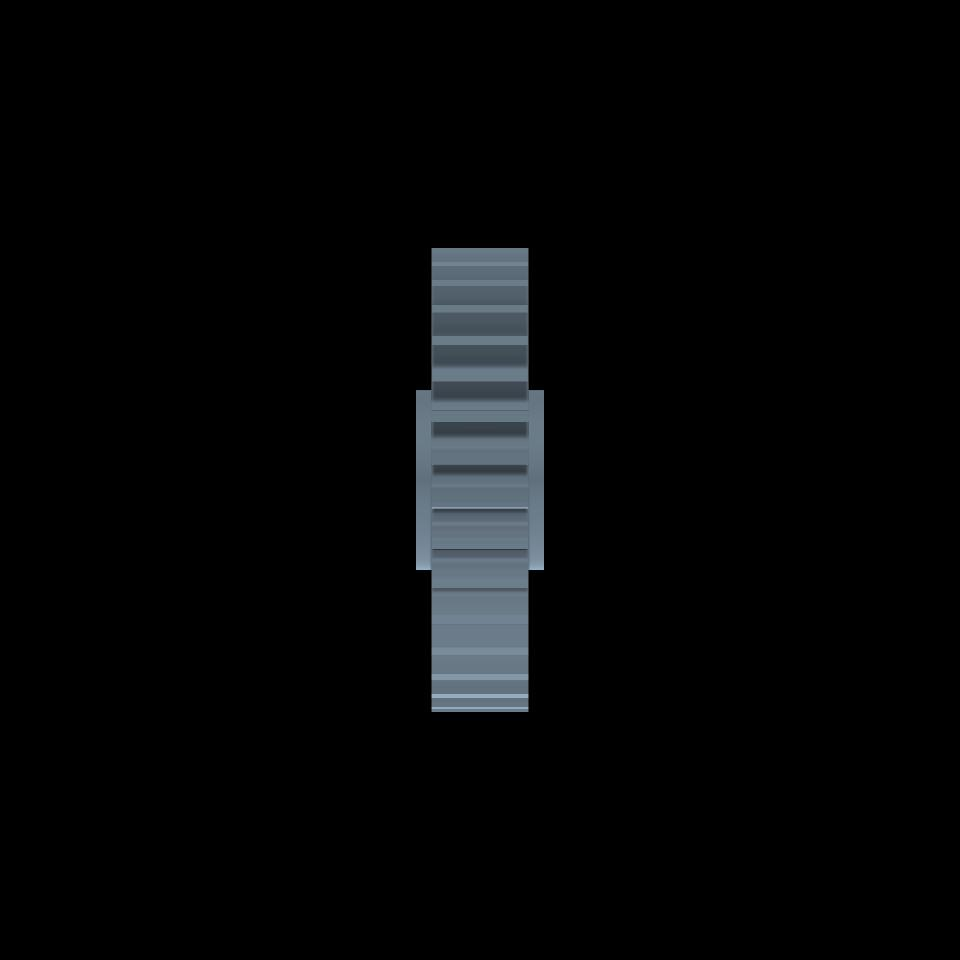Straight: (432, 248, 528, 712)
